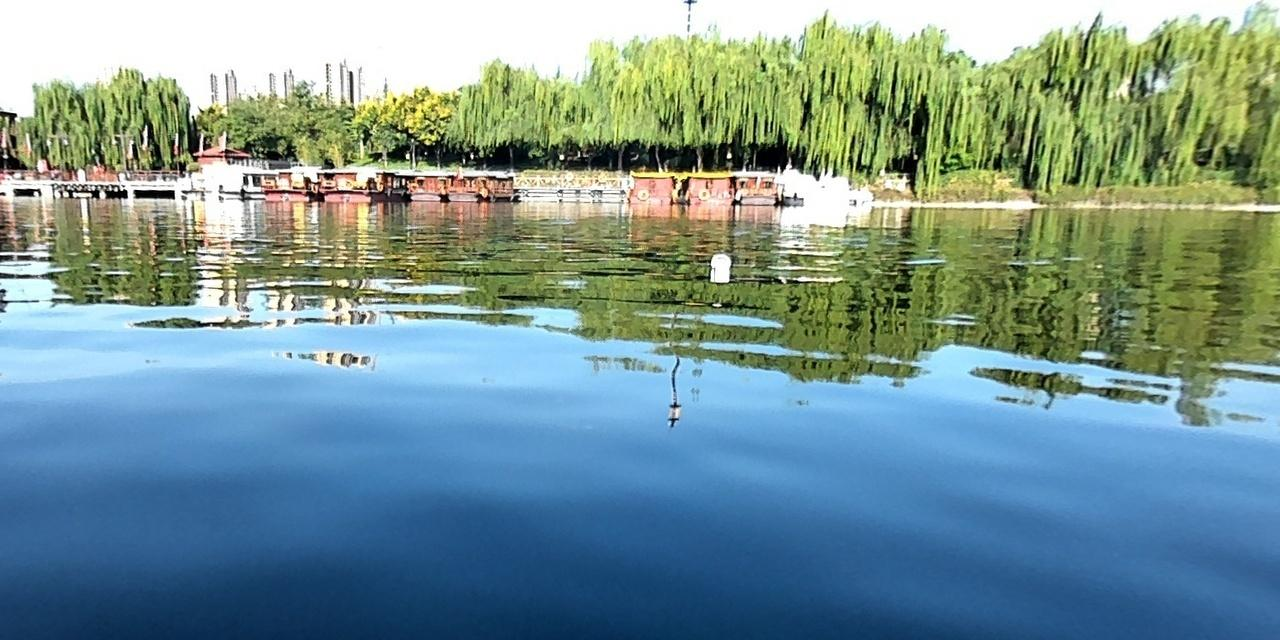bottle: (707, 249, 732, 270)
